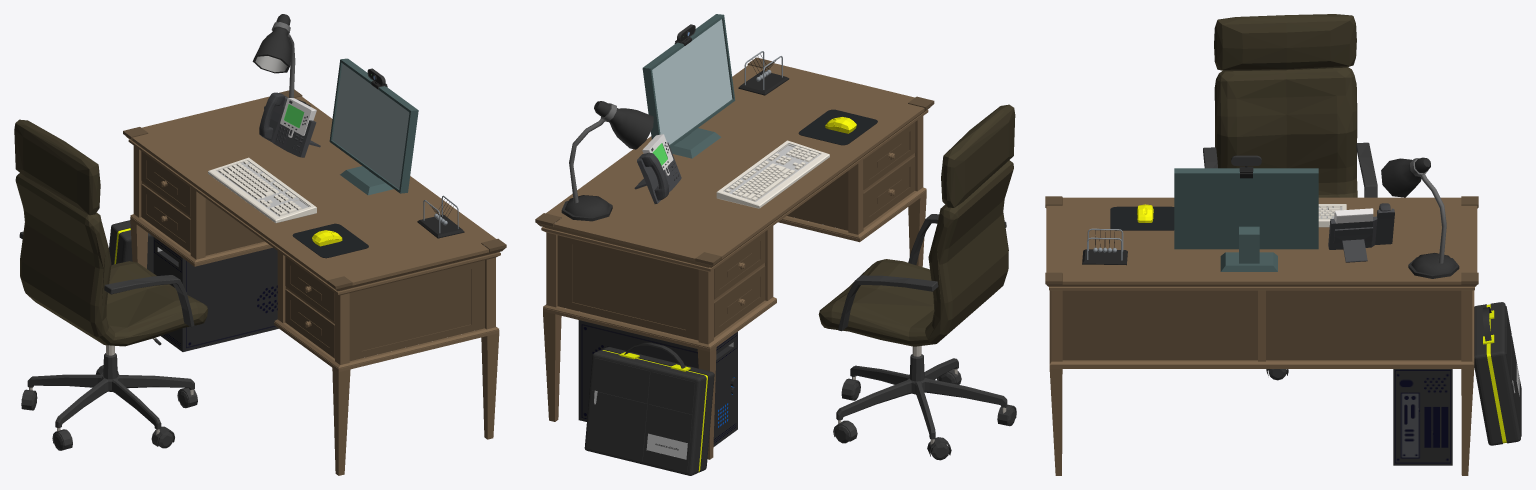
File: Desk.glb
3 views of the same model, side by side, from view 1: azimuth 30°, elevation 25°; view 2: azimuth 150°, elevation 25°; view 3: azimuth 270°, elevation 25° (orthographic). The views are drawn at different scales.
Visible parts, largest first — view 1: Desk-V86Go2rlnq, Chair, System_unit.001, Computer Screen, Keyboard-aPwr5p1dluw, Office Phone.002, Light Desk, Mousepad.002, Laptop bag, Cube.002; view 2: Desk-V86Go2rlnq, Chair, Laptop bag, Computer Screen, System_unit.001, Keyboard-aPwr5p1dluw, Light Desk, Office Phone.002, Mousepad.002, Cube.002; view 3: Desk-V86Go2rlnq, Chair, Computer Screen, System_unit.001, Laptop bag, Light Desk, Office Phone.002, Mousepad.002, Cube.002, Cylinder.
Part boxes in pixels (x1,y1,x2,y2): Desk-V86Go2rlnq: (123, 89, 506, 475); Chair: (14, 119, 207, 450); System_unit.001: (153, 237, 278, 351); Computer Screen: (329, 58, 418, 195); Keyboard-aPwr5p1dluw: (208, 157, 316, 223); Office Phone.002: (259, 92, 320, 157); Light Desk: (252, 14, 310, 109); Mousepad.002: (292, 223, 368, 258); Laptop bag: (109, 220, 153, 273); Cube.002: (417, 195, 464, 238); Desk-V86Go2rlnq: (535, 57, 934, 459); Chair: (818, 104, 1016, 460); Laptop bag: (584, 342, 714, 475); Computer Screen: (642, 14, 735, 158); System_unit.001: (578, 320, 737, 446); Keyboard-aPwr5p1dluw: (716, 140, 829, 208); Light Desk: (561, 101, 653, 221); Office Phone.002: (634, 134, 681, 203); Mousepad.002: (798, 109, 877, 145); Cube.002: (738, 51, 789, 95); Desk-V86Go2rlnq: (1045, 196, 1478, 475); Chair: (1203, 14, 1377, 380); Computer Screen: (1174, 168, 1318, 271); System_unit.001: (1393, 369, 1452, 465); Laptop bag: (1474, 302, 1521, 445); Light Desk: (1381, 157, 1459, 278); Office Phone.002: (1328, 203, 1394, 262); Mousepad.002: (1110, 206, 1174, 230); Cube.002: (1082, 228, 1127, 265); Cylinder: (1231, 155, 1261, 178).
Bounding box in the file's own units: 1.72 × 1.43 × 2.
30 materials, 3 textured.
